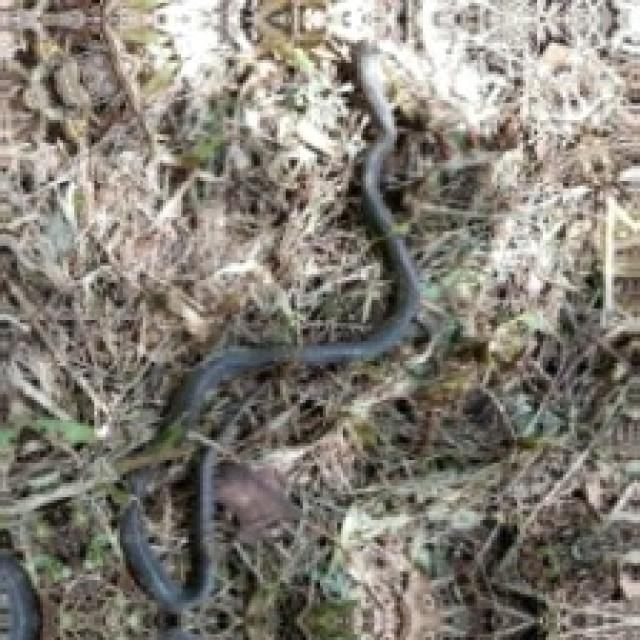gunthers philippine shrub snake: (3, 43, 420, 637)
